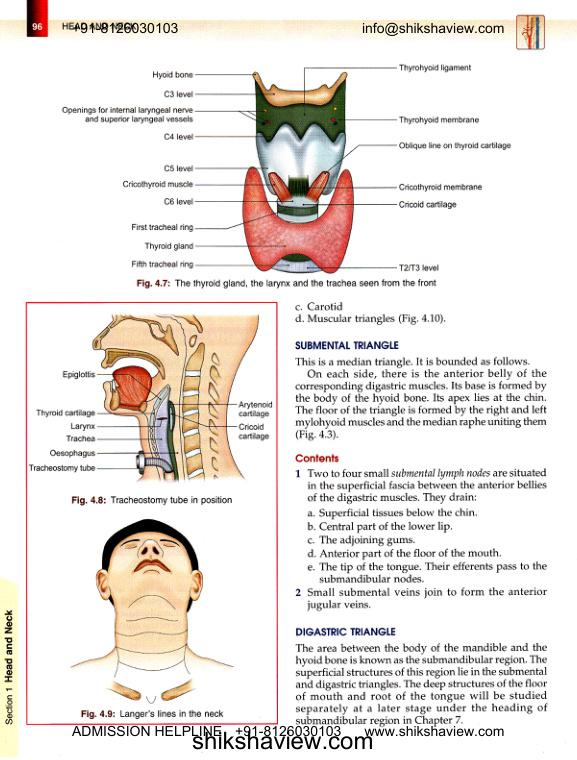caption: (135, 277, 438, 290), (70, 495, 233, 507), (80, 709, 225, 720)
image: (52, 46, 518, 275), (29, 513, 274, 708), (29, 305, 274, 490)
list: (293, 467, 549, 613), (293, 300, 447, 327)
section-heading: (294, 339, 400, 351), (294, 626, 396, 637)
sub-section-heading: (294, 452, 340, 465)
text: (293, 642, 549, 727)
